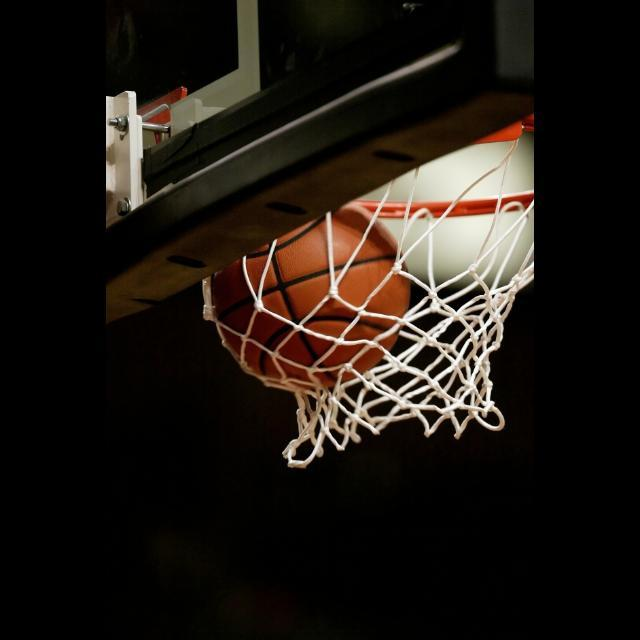basketball: (212, 206, 410, 387)
